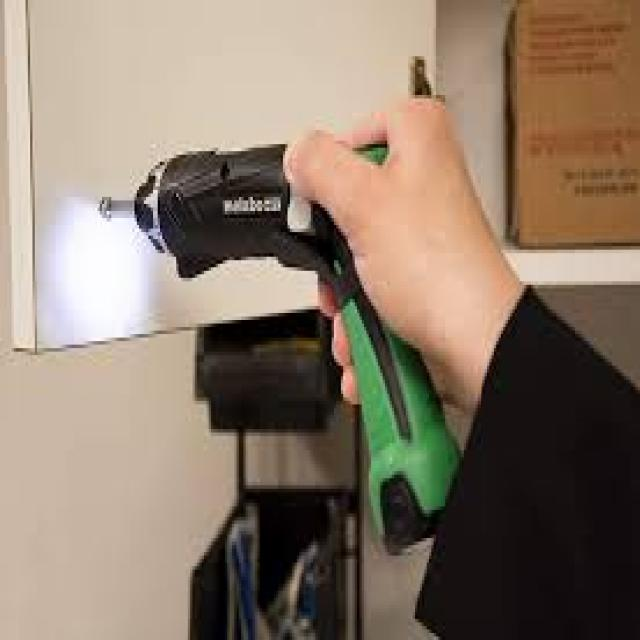driller: (97, 142, 461, 559)
